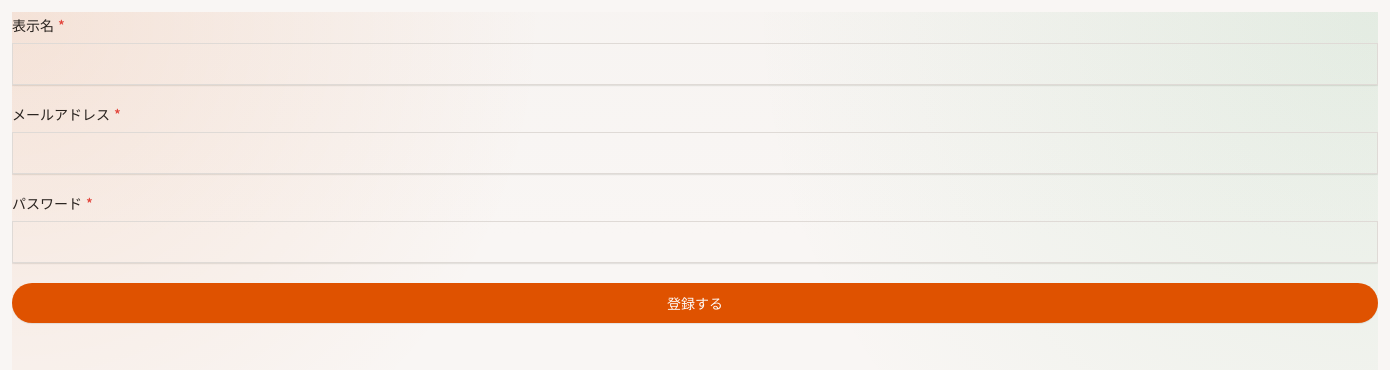
Test: RegisterForm › routes an email-already-registered API error to the email field, not the top alert
Type "Alice" into the field labelled "表示名" at [695, 64], box [12,43,1378,85]
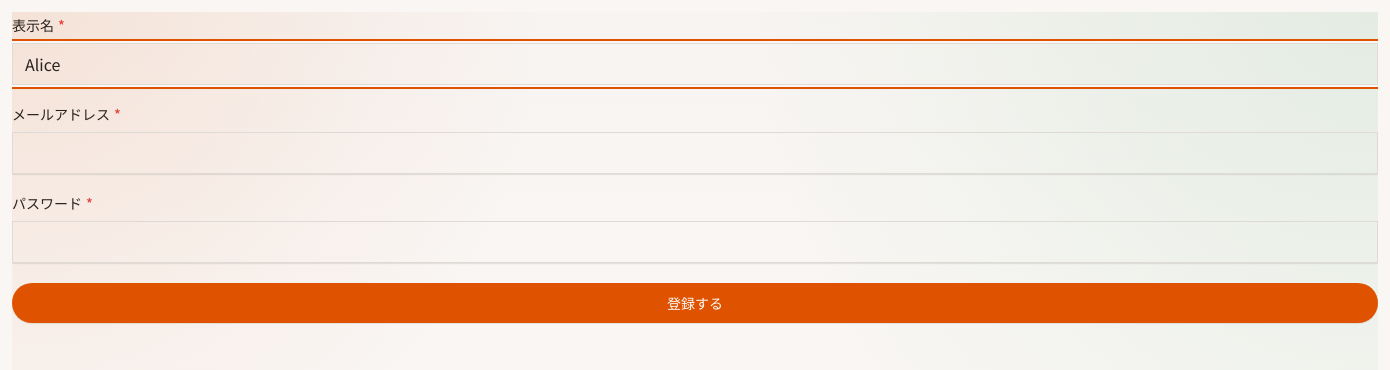
Type "alice@example.com" into the field labelled "メールアドレス" at [695, 153], box [12,132,1378,174]
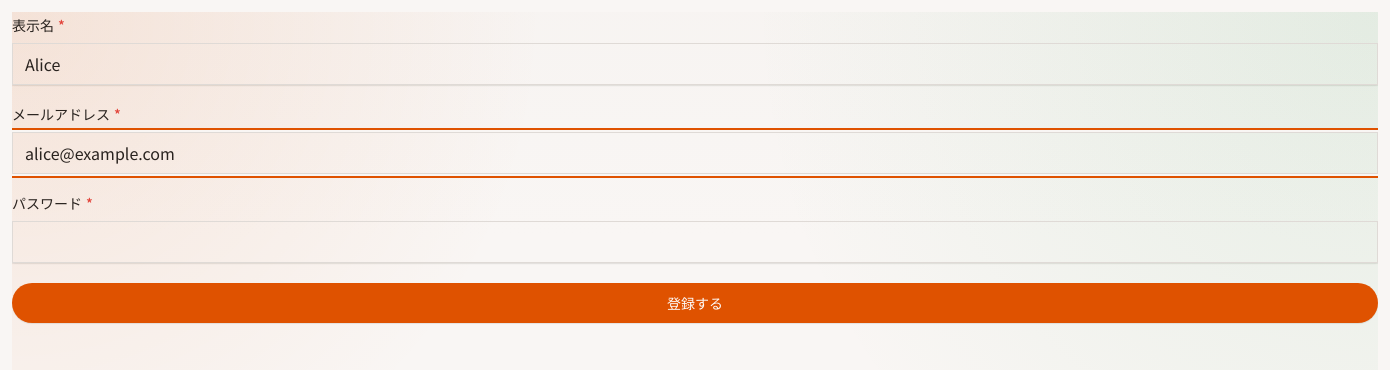
Type "correct-password" into the password field labelled "パスワード" at [695, 242], box [12,221,1378,263]
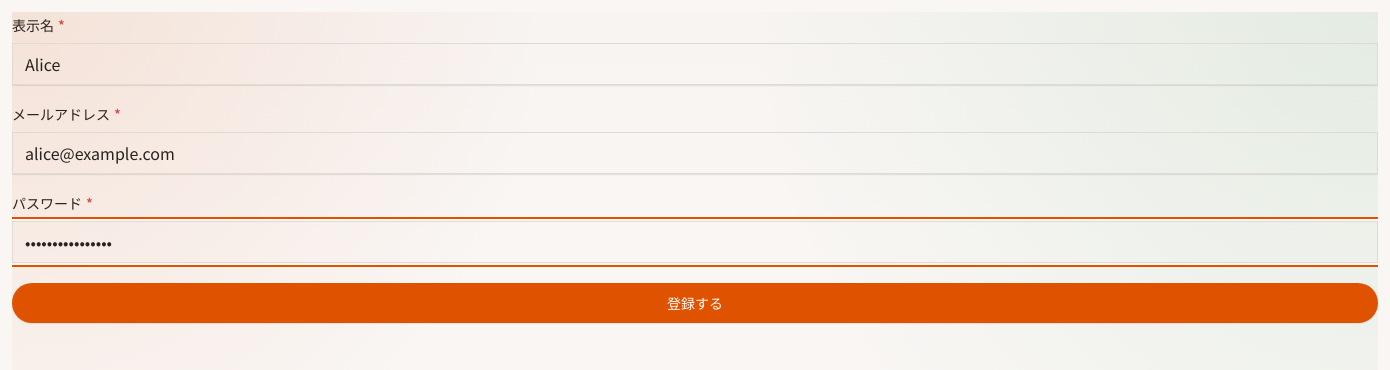
Click the button "登録する" at [695, 303], box [12,283,1378,323]
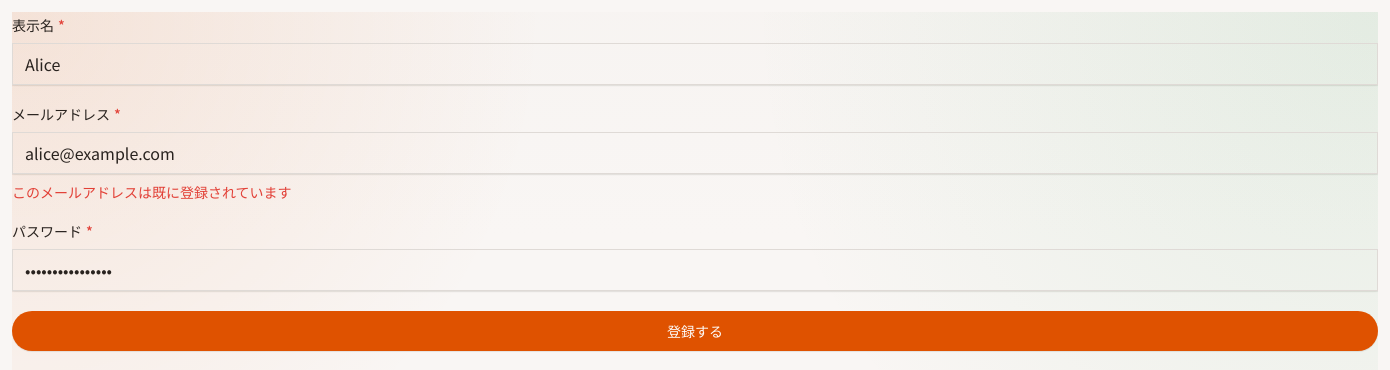
Now the number of messages is 1, box [12,182,292,202]
